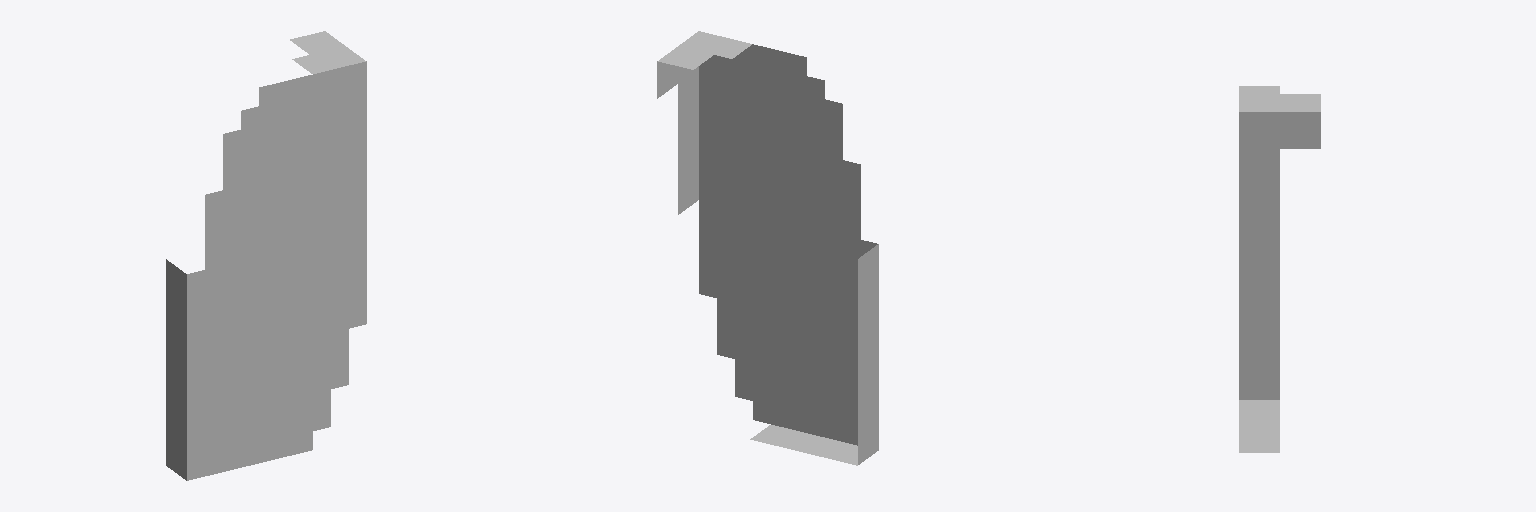
File: elytra_right.obj
3 views of the same model, side by side, from view 1: azimuth 30°, elevation 25°; view 2: azimuth 150°, elevation 25°; view 3: azimuth 270°, elevation 25° (orthographic).
Visible parts, largest first — view 1: right_wing; view 2: right_wing; view 3: right_wing.
Part boxes in pixels (bbox=[...]): right_wing: bbox=[166, 31, 366, 480]; right_wing: bbox=[657, 31, 878, 465]; right_wing: bbox=[1239, 86, 1320, 452].
Bounding box in the file's own units: 0.6403 × 1.28 × 0.2561.